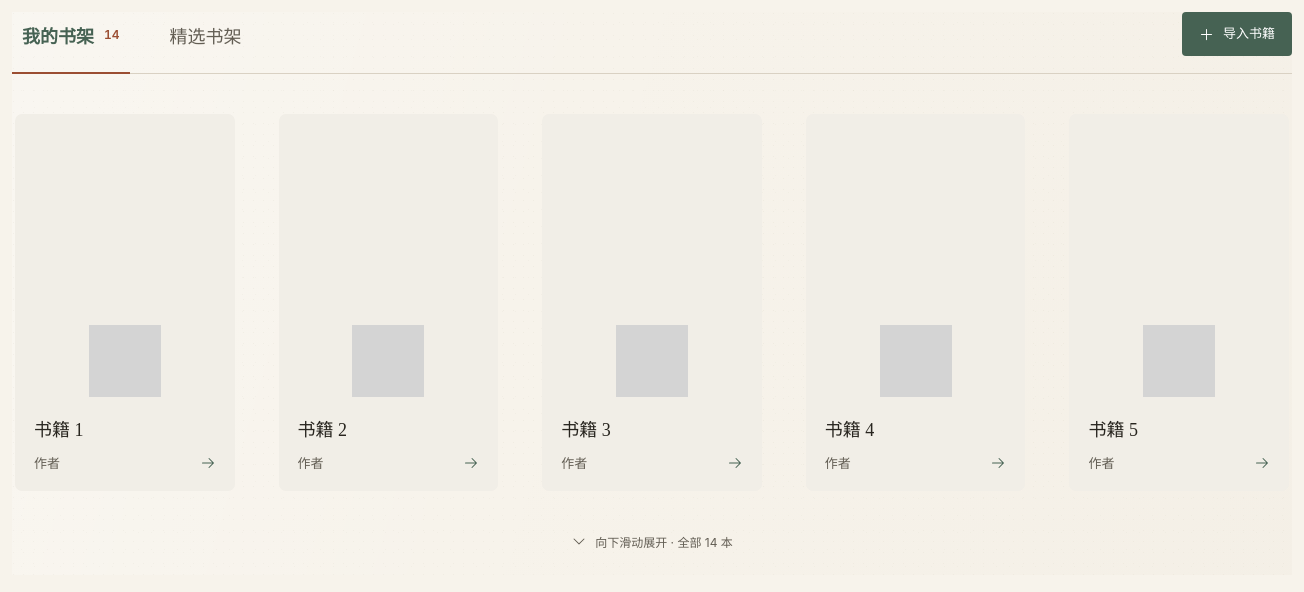
Scenario: AnalyzedBookShelf › keeps the private shelf usable when the public request fails and retries only the failed shelf
The width and height of the screenshot is (1304, 592).
Check: the link "书籍 1 作者" is shown, box [15,114,235,491]
Click the tab "精选书架": (218, 42) [160,12,276,73]
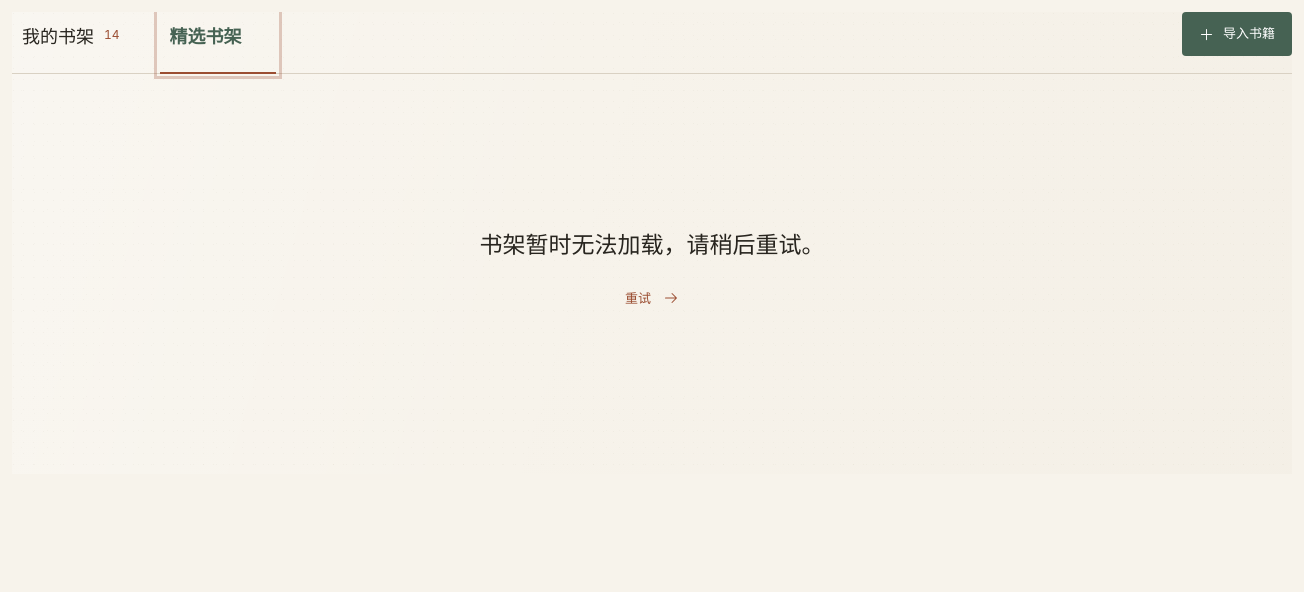
Check: the message shows "书架暂时无法加载", box [480,233,824,258]
Click the button "重试": (652, 298) [613,276,691,320]
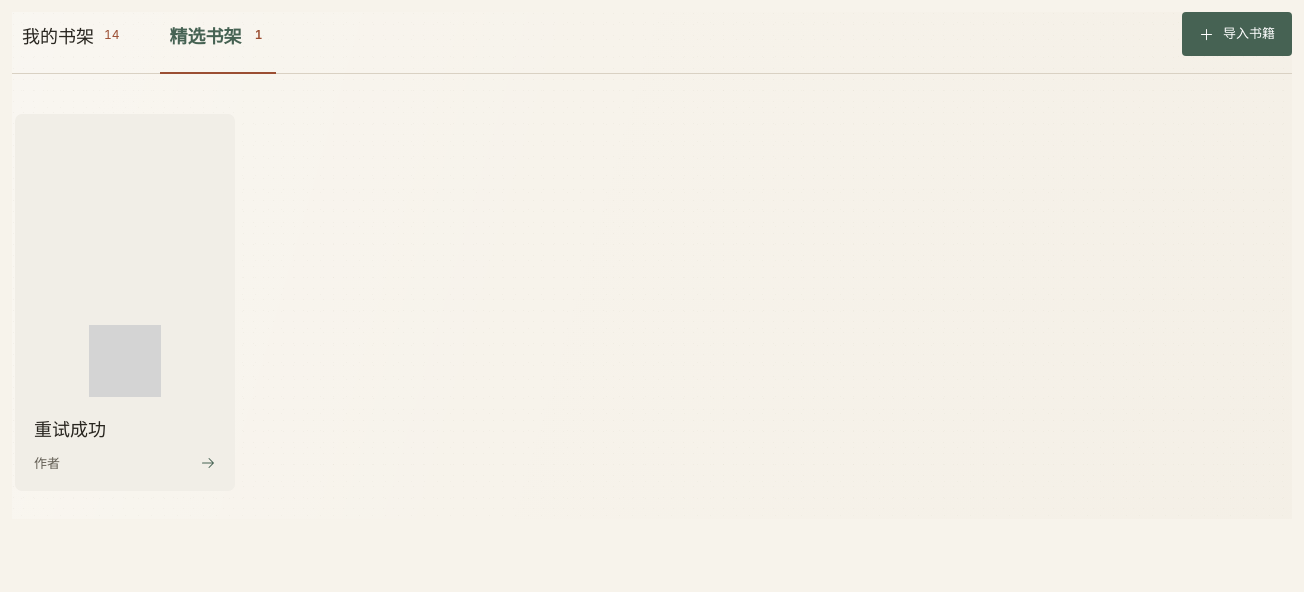
Check: the link "重试成功 作者" is shown, box [15,114,235,491]
